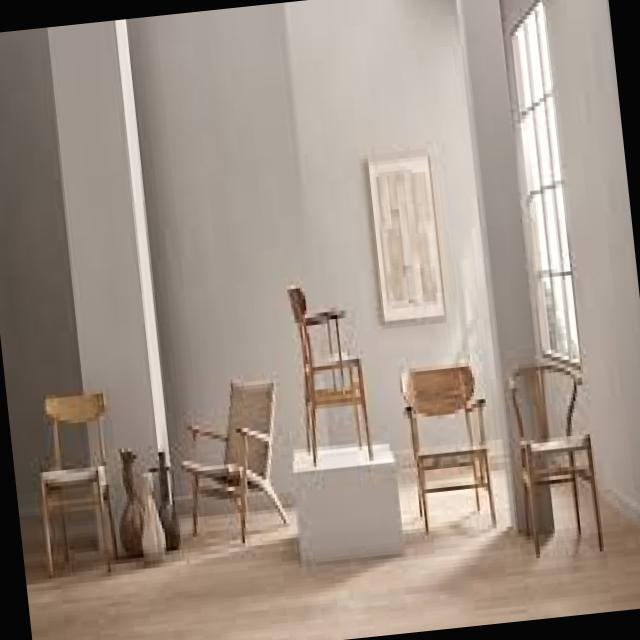obstacle: (394, 334, 508, 551), (273, 257, 386, 468)
